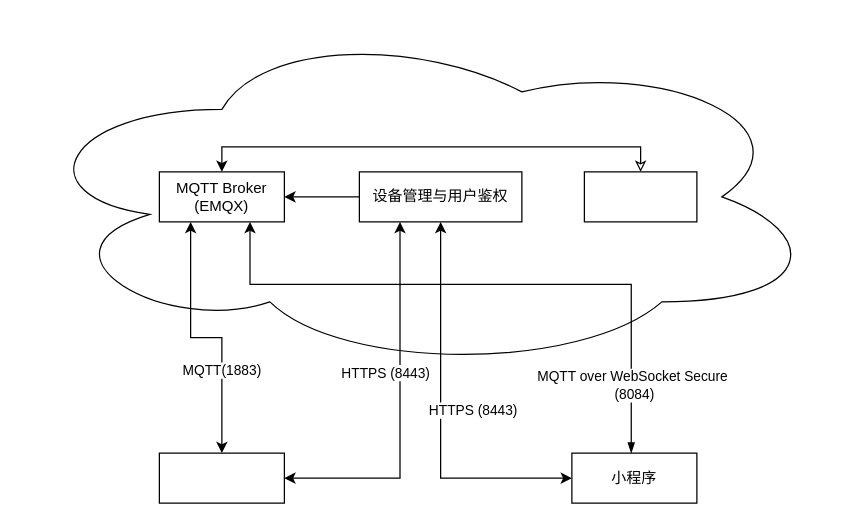
Image size: 844x525. Some labels were removed from this diagram. The shapes that lost their labels are listed below. From the top down, each one's centre as x and y in pixels, then its label:
At pixel 640 196: "业务逻辑".
At pixel 221 477: "设备端".
